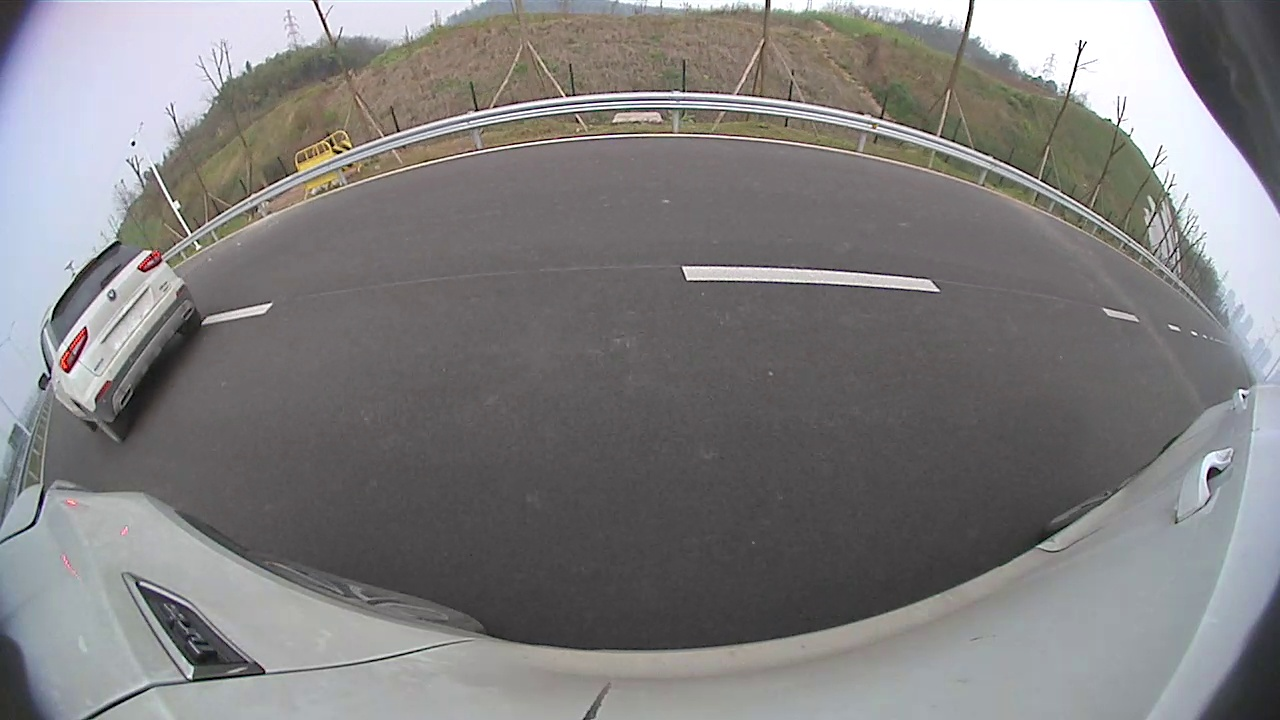car: (625, 130, 717, 208)
